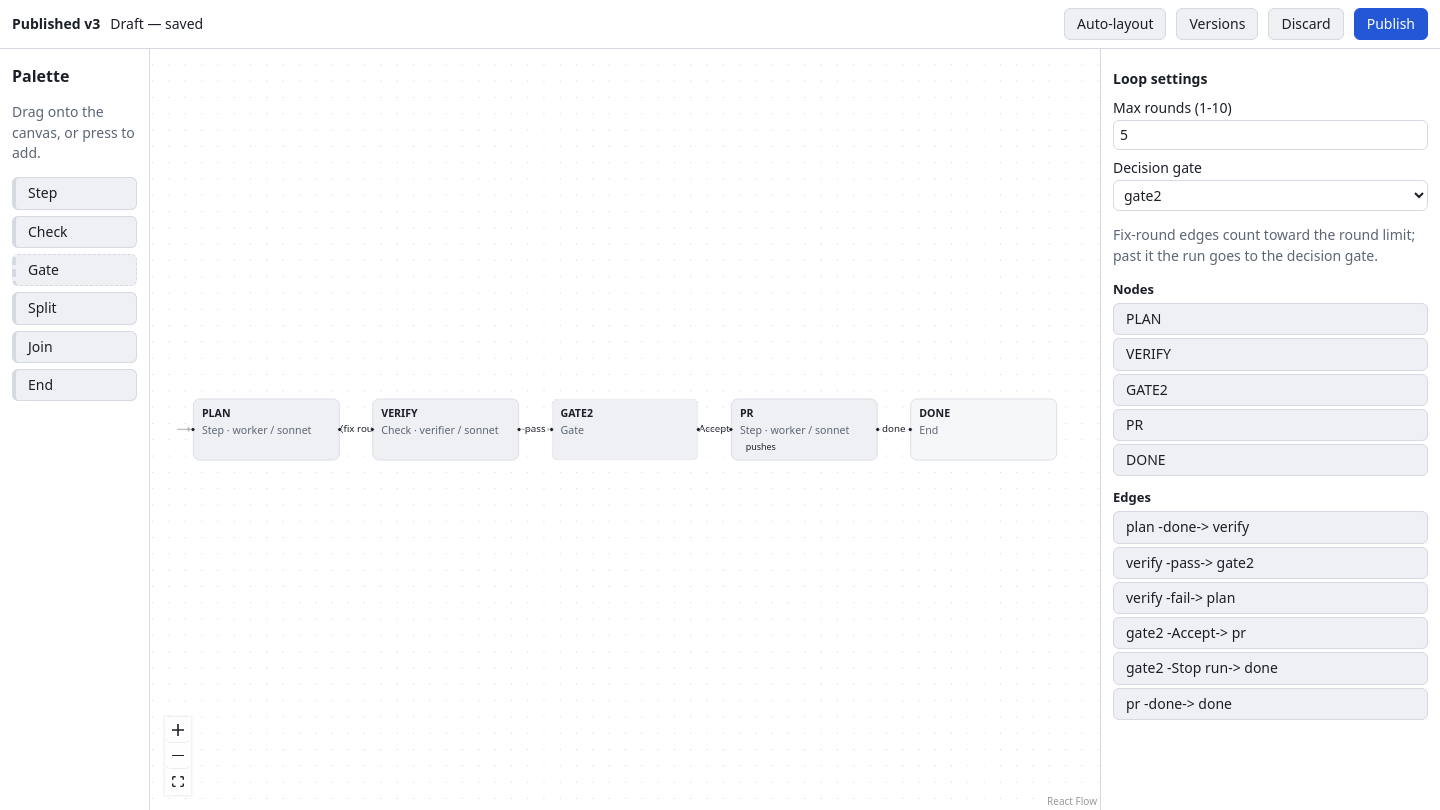
Scenario: WorkflowEditor › Publish refused: lists the errors, and pressing one selects its node
Check: the text "Published v3" is shown, box [12,14,100,34]
Step 1. Click the button "Publish" → (1391, 24), box [1354,8,1428,40]
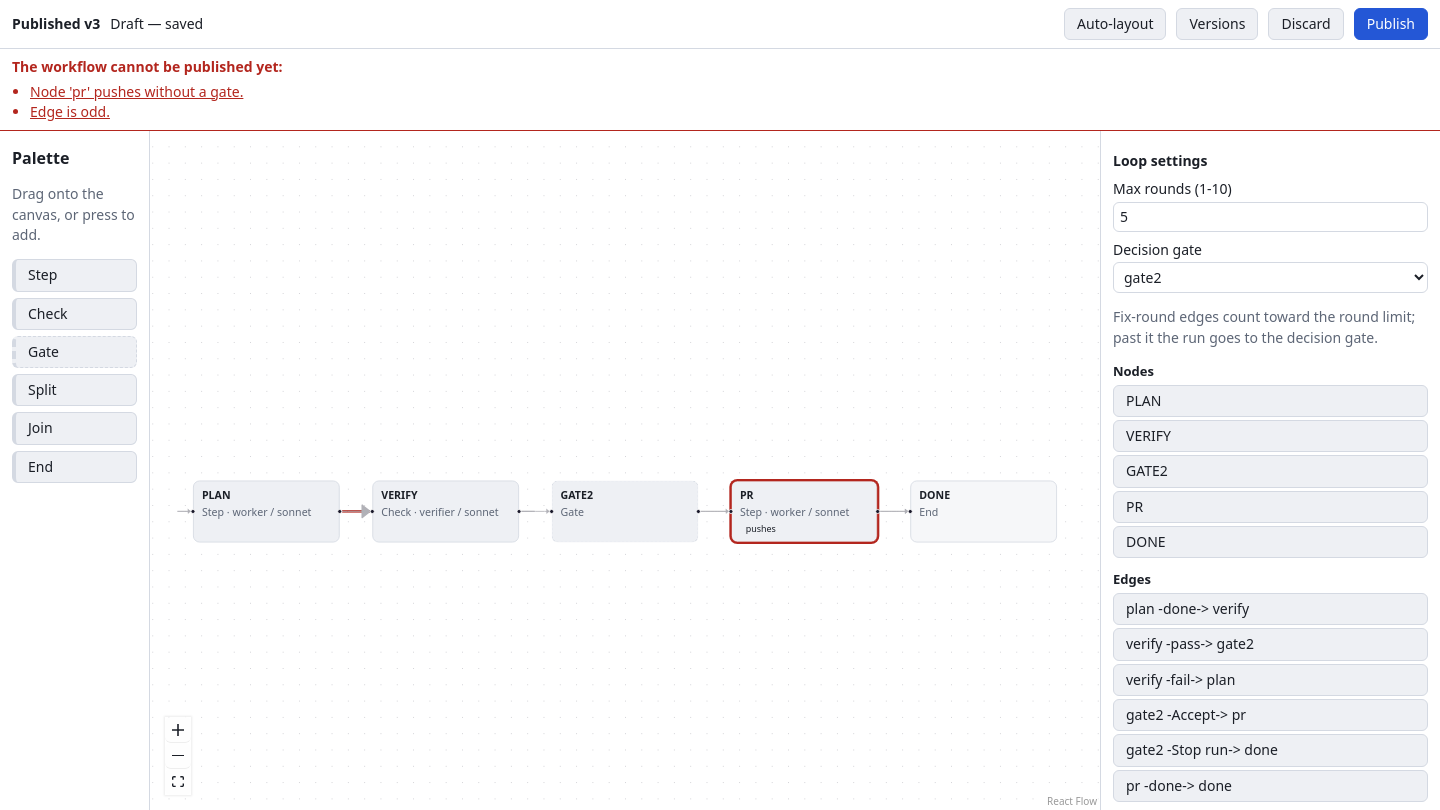
Step 2. Click the button "Node 'pr' pushes without a gate." → (137, 92), box [30,82,243,102]
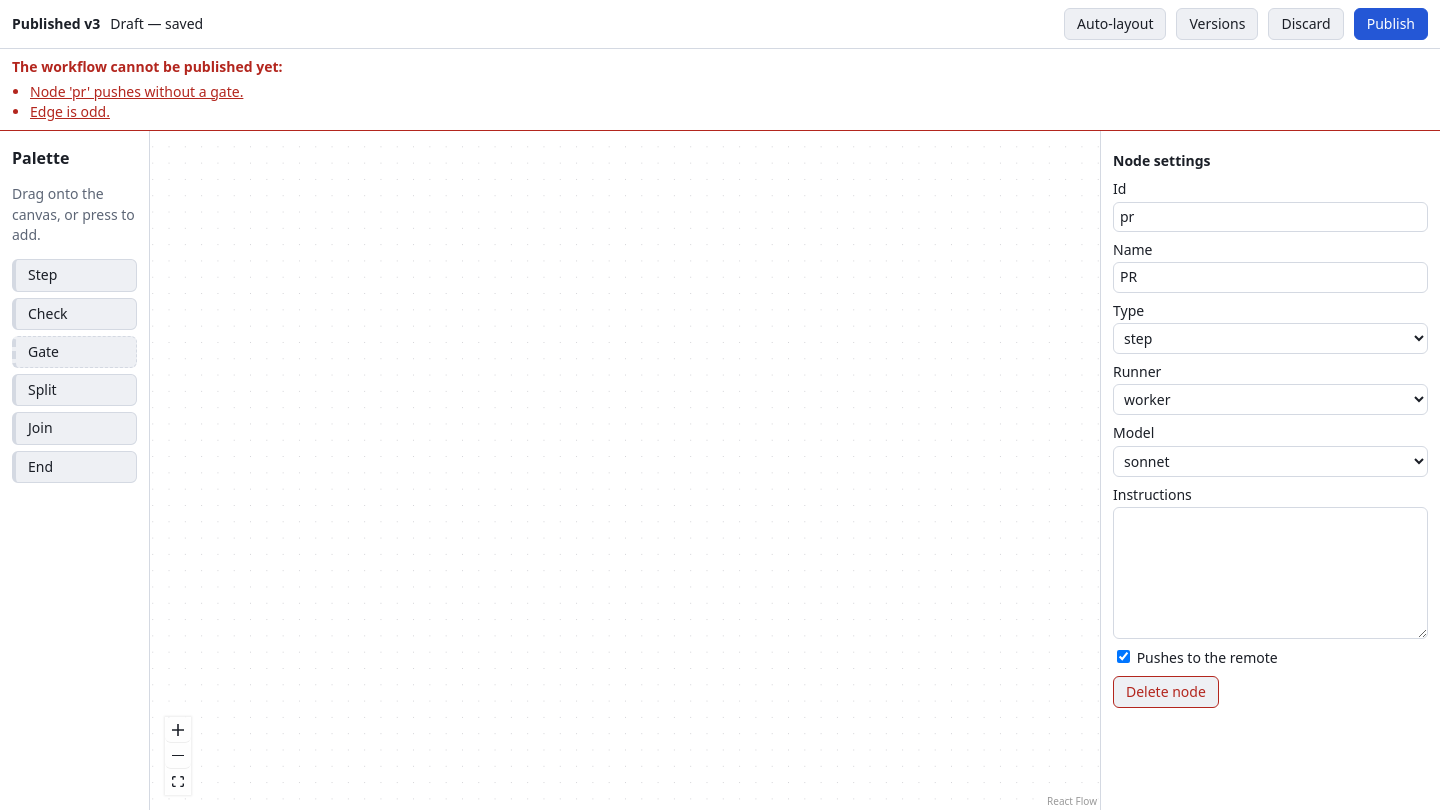
Check: the field labelled "Id" holds "pr", box [1113,202,1428,232]
Step 3. Click the button "Edge is odd." → (70, 112), box [30,102,110,122]
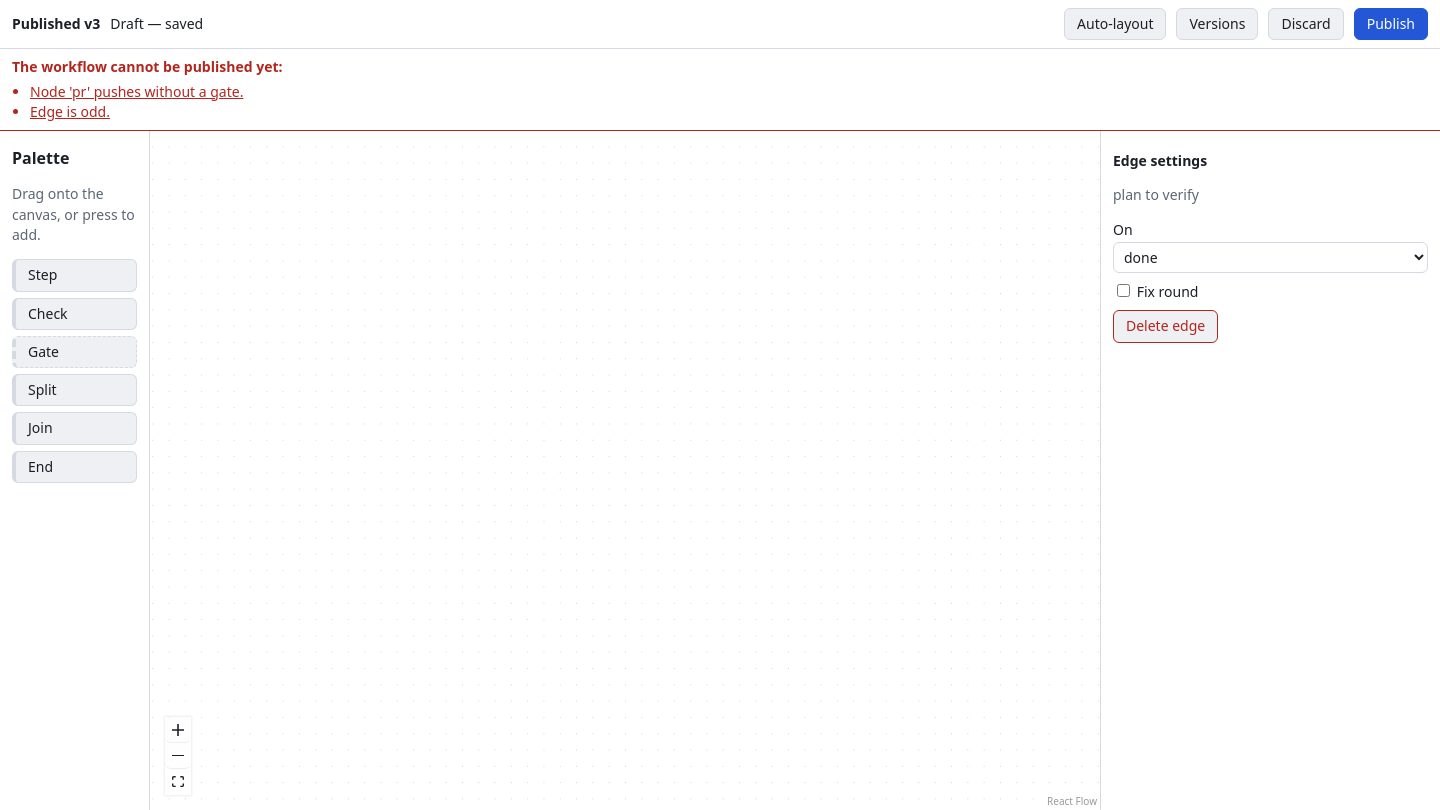
Check: the dropdown labelled "On" shows "done", box [1113,242,1428,273]
